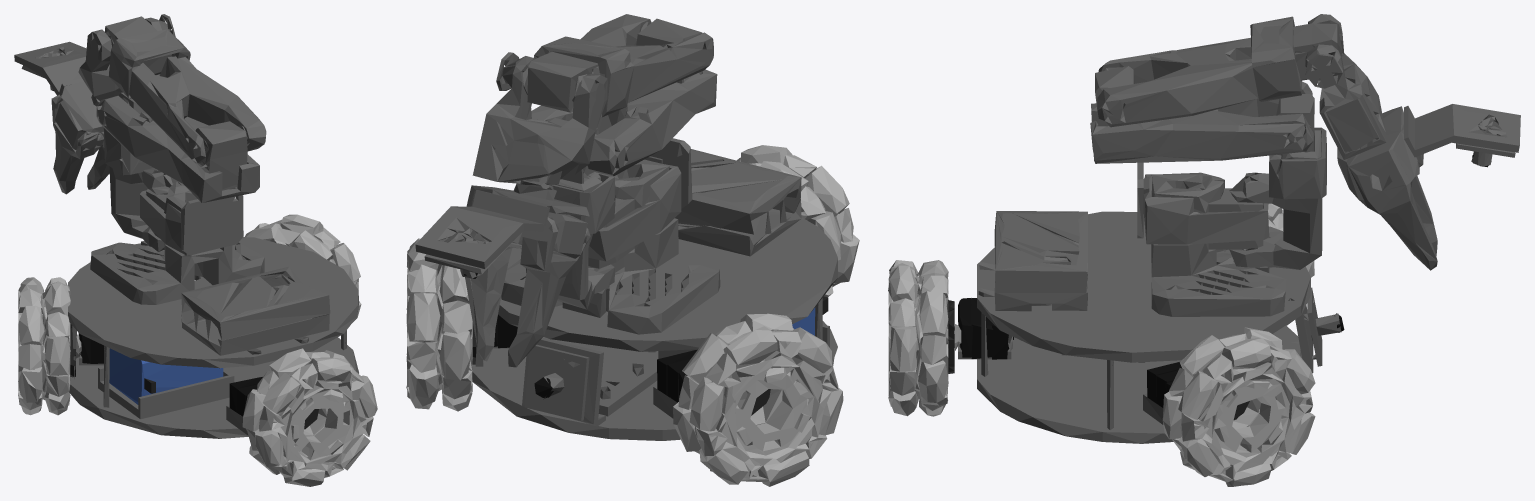
Rendered from lekiwi.glb.
3 views of the same model, side by side, from view 1: azimuth 30°, elevation 25°; view 2: azimuth 150°, elevation 25°; view 3: azimuth 270°, elevation 25° (orthographic). The views are drawn at different scales.
Size of the model in its own units: 1.42 by 1.31 by 1.99.
